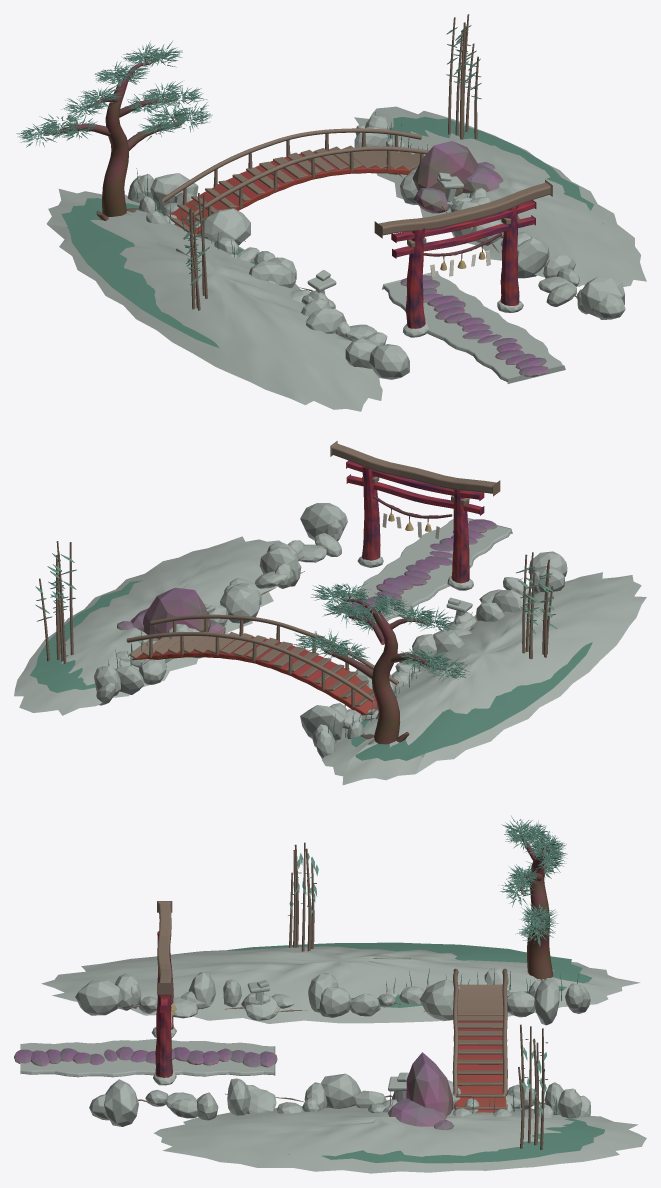
File: gate-bridge.glb
3 renders of one model, top to bottom at view 1: azimuth 30°, elevation 25°; view 2: azimuth 150°, elevation 25°; view 3: azimuth 270°, elevation 25°, orthographic. The views are drawn at different scales.
Parts seen in each view (by area): view 1: VIS_GardenFrame_LOD0, VIS_MoonBridge_LOD0, VIS_OldPine_LOD0, VIS_Torii_LOD0, VIS_RockComposition_LOD0, VIS_SteppingApproach_LOD0, VIS_RopeBells_LOD0; view 2: VIS_GardenFrame_LOD0, VIS_MoonBridge_LOD0, VIS_OldPine_LOD0, VIS_Torii_LOD0, VIS_RockComposition_LOD0, VIS_SteppingApproach_LOD0, VIS_RopeBells_LOD0; view 3: VIS_GardenFrame_LOD0, VIS_MoonBridge_LOD0, VIS_OldPine_LOD0, VIS_SteppingApproach_LOD0, VIS_RockComposition_LOD0, VIS_Torii_LOD0.
Boxes of the visible parts, bbox=[...] form: VIS_GardenFrame_LOD0: bbox=[46, 14, 646, 411]; VIS_MoonBridge_LOD0: bbox=[161, 128, 429, 234]; VIS_OldPine_LOD0: bbox=[16, 41, 212, 220]; VIS_Torii_LOD0: bbox=[374, 180, 552, 337]; VIS_RockComposition_LOD0: bbox=[412, 141, 503, 213]; VIS_SteppingApproach_LOD0: bbox=[400, 275, 548, 376]; VIS_RopeBells_LOD0: bbox=[423, 233, 502, 277]; VIS_GardenFrame_LOD0: bbox=[14, 503, 646, 785]; VIS_MoonBridge_LOD0: bbox=[126, 614, 398, 715]; VIS_OldPine_LOD0: bbox=[293, 583, 469, 744]; VIS_Torii_LOD0: bbox=[330, 441, 500, 590]; VIS_RockComposition_LOD0: bbox=[117, 587, 225, 639]; VIS_SteppingApproach_LOD0: bbox=[346, 519, 497, 614]; VIS_RopeBells_LOD0: bbox=[372, 495, 452, 539]; VIS_GardenFrame_LOD0: bbox=[20, 842, 646, 1173]; VIS_MoonBridge_LOD0: bbox=[452, 968, 507, 1112]; VIS_OldPine_LOD0: bbox=[500, 816, 567, 980]; VIS_SteppingApproach_LOD0: bbox=[14, 1046, 277, 1067]; VIS_RockComposition_LOD0: bbox=[388, 1052, 454, 1129]; VIS_Torii_LOD0: bbox=[151, 901, 176, 1085].
Size of what is drawn, in the model's own units: 26.44 by 10.11 by 30.26.
